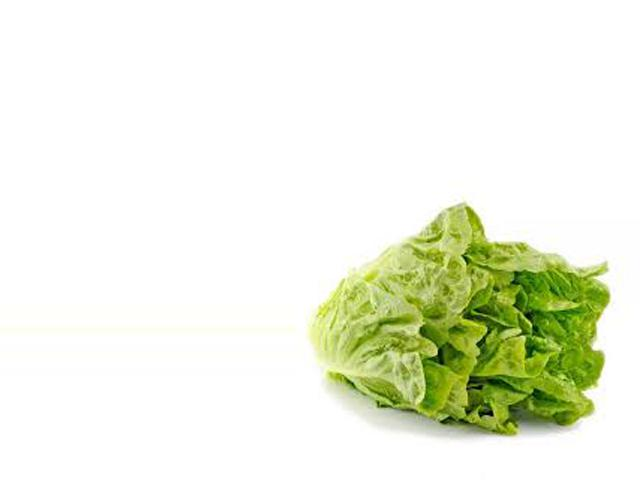lettuce: (310, 207, 607, 450)
